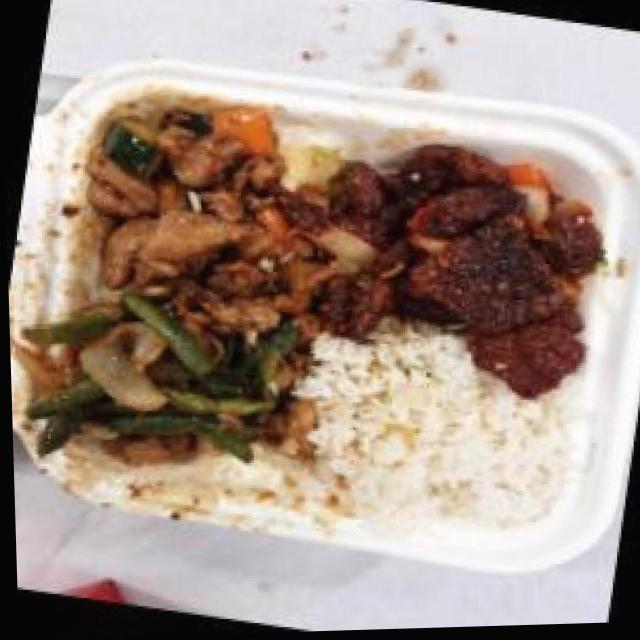Beijing Beef: (303, 126, 628, 421)
Kung Pao Chicken: (52, 75, 351, 345)
String Bean Chicken Breast: (7, 273, 312, 498)
White Steamed Rice: (281, 332, 576, 562)
